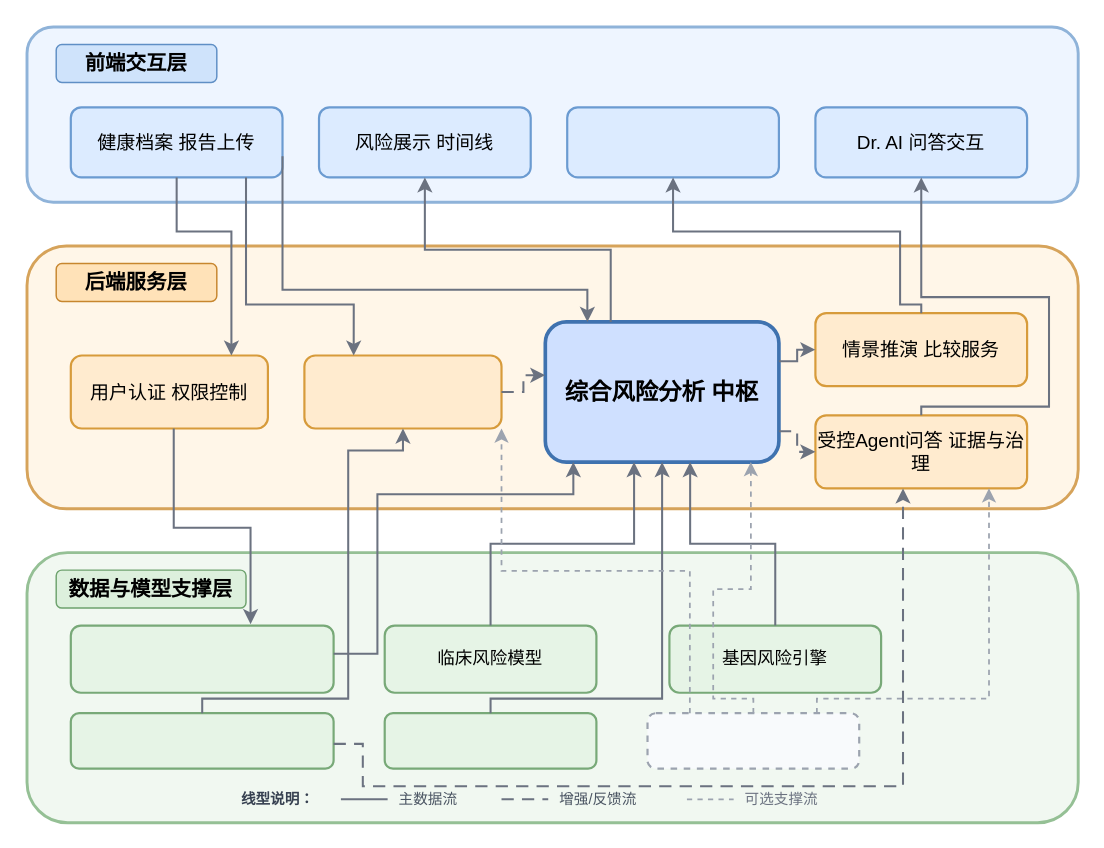
This 1104x848 diagram has some shape labels left out. Here are the shapes that lost their labels. From the top down, the box of each, then its label:
(565, 106, 779, 178): 情景推演 方案比较
(303, 354, 502, 429): OCR解析 文档处理
(69, 624, 334, 693): 用户画像・健康记录 文档与会话存储
(69, 711, 334, 769): OCR摘要・知识检索支撑
(383, 711, 597, 769): 行为修正・事件更新
(646, 711, 860, 769): 可选缓存・运行支撑
